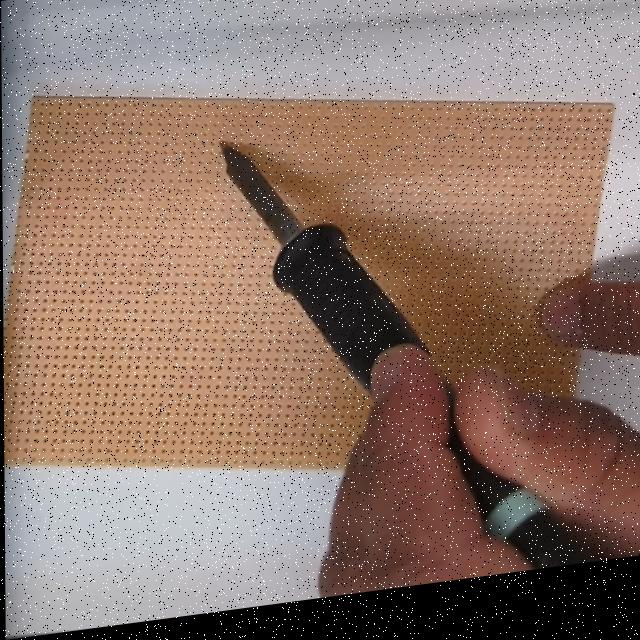soldering_iron: (215, 91, 564, 612)
